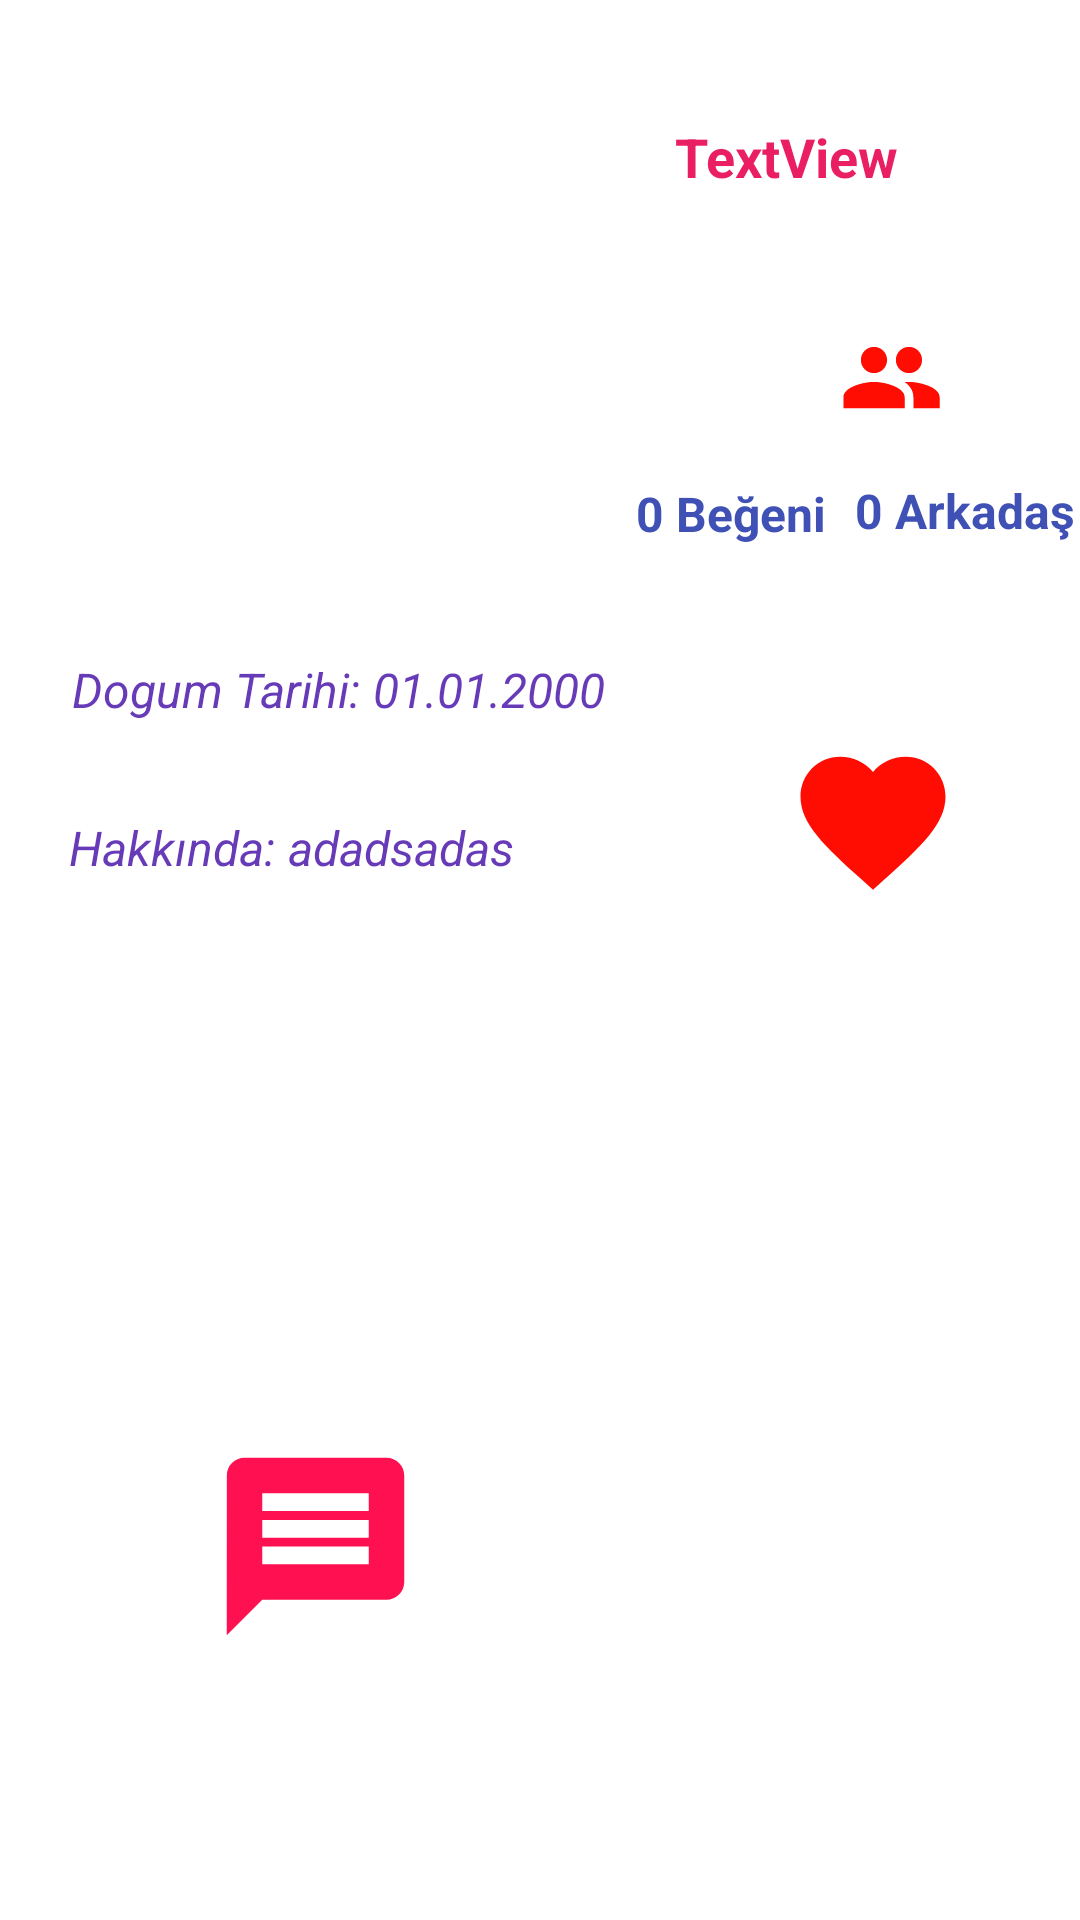

Where icons sit on this 1080px×1920px app screen, as (x1, y1, x2, y2):
favorite: (800, 756, 946, 890)
message: (226, 1457, 405, 1635)
people: (843, 347, 940, 409)
